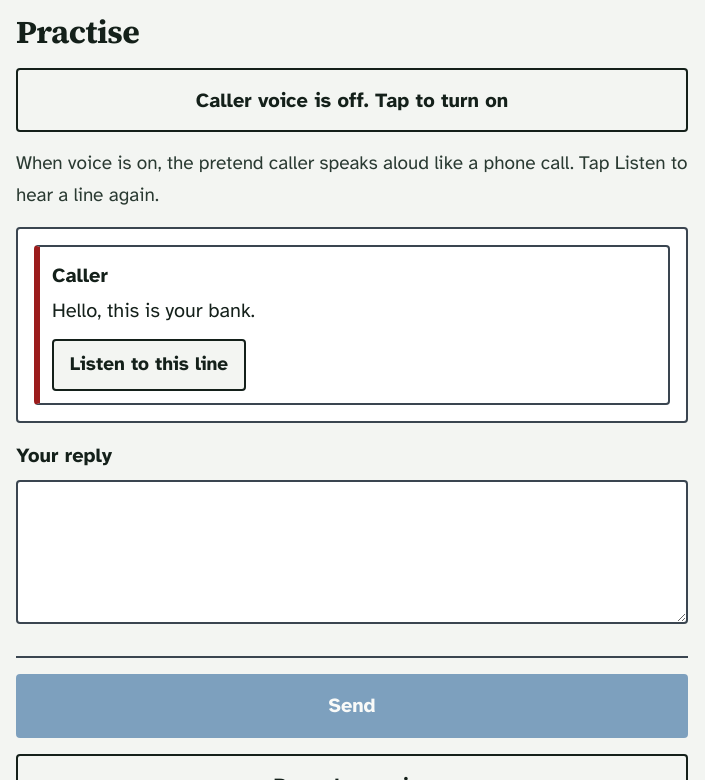
PractiseChat › keeps the whole conversation after a refresh
Later steps or results of the test are not shown.
Expected: the text "Hello, this is your bank." is shown, [52,298,255,323]
Step 1. Type "Who is this?" into the text box → (352, 552), box [16,480,688,624]
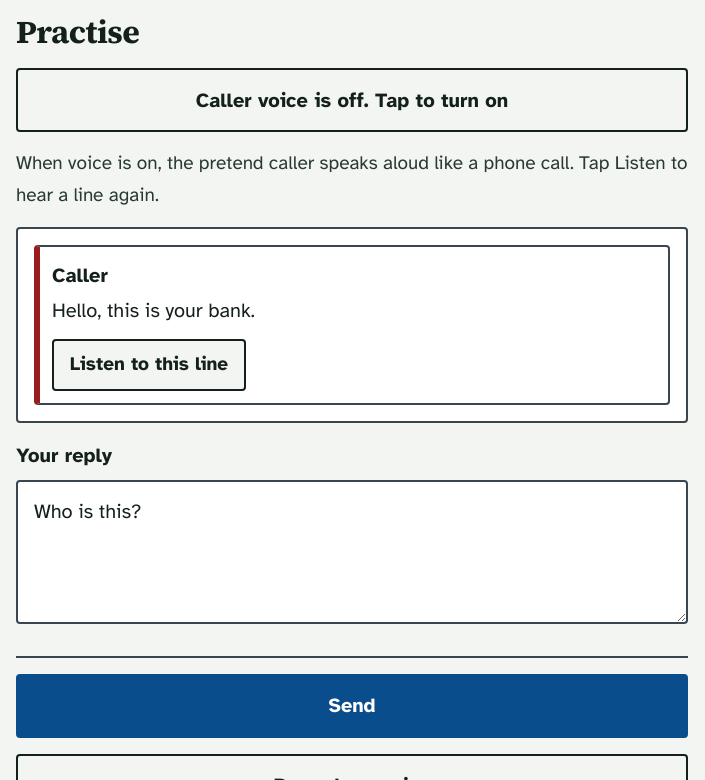
Step 2. Click the button "Send" → (352, 706), box [16,674,688,738]
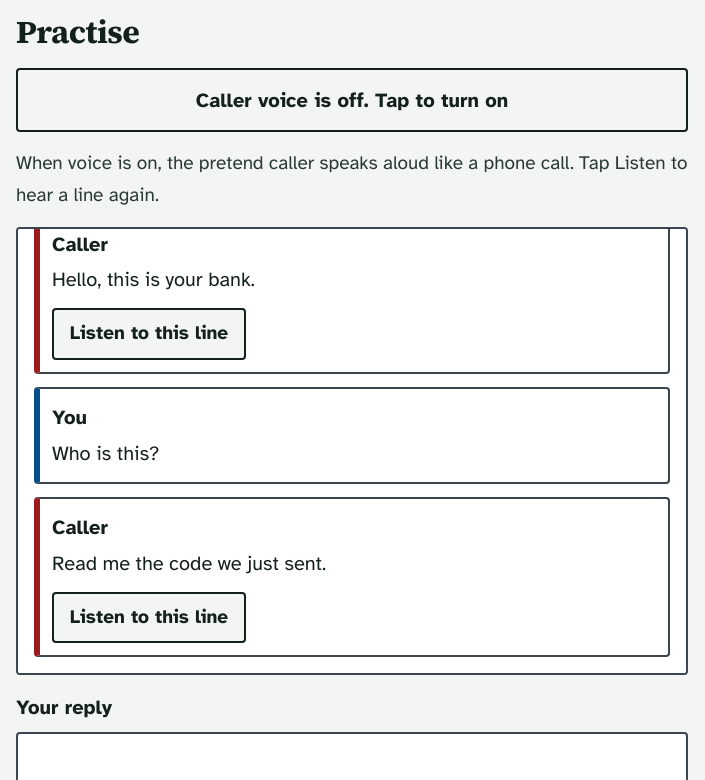
Expected: the text "Read me the code we just sent." is shown, [52,551,326,576]
